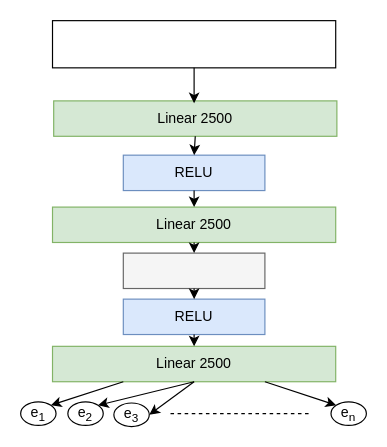
The diagram is 387 pixels wide and 447 high, and some of its shapes have lost their labels. The box of each missing label's shape, as (x1, y1, x2, y2) in pixels:
Dropout 0.5: (122, 252, 265, 289)
Hugging Face vector [BATCH x 384]: (51, 19, 336, 68)
